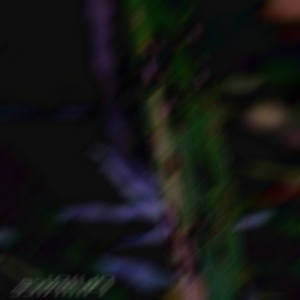Brown_Spot: (184, 60, 218, 104), (191, 144, 219, 197), (189, 203, 226, 241), (155, 198, 183, 245), (154, 89, 185, 131), (182, 228, 204, 285), (184, 14, 205, 60), (140, 47, 160, 91), (150, 29, 175, 59)
